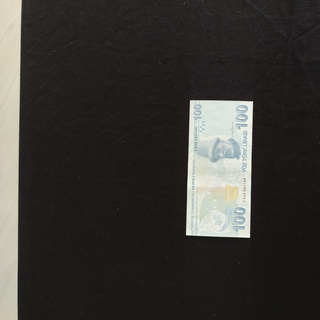100TLBack: (185, 99, 253, 238)
